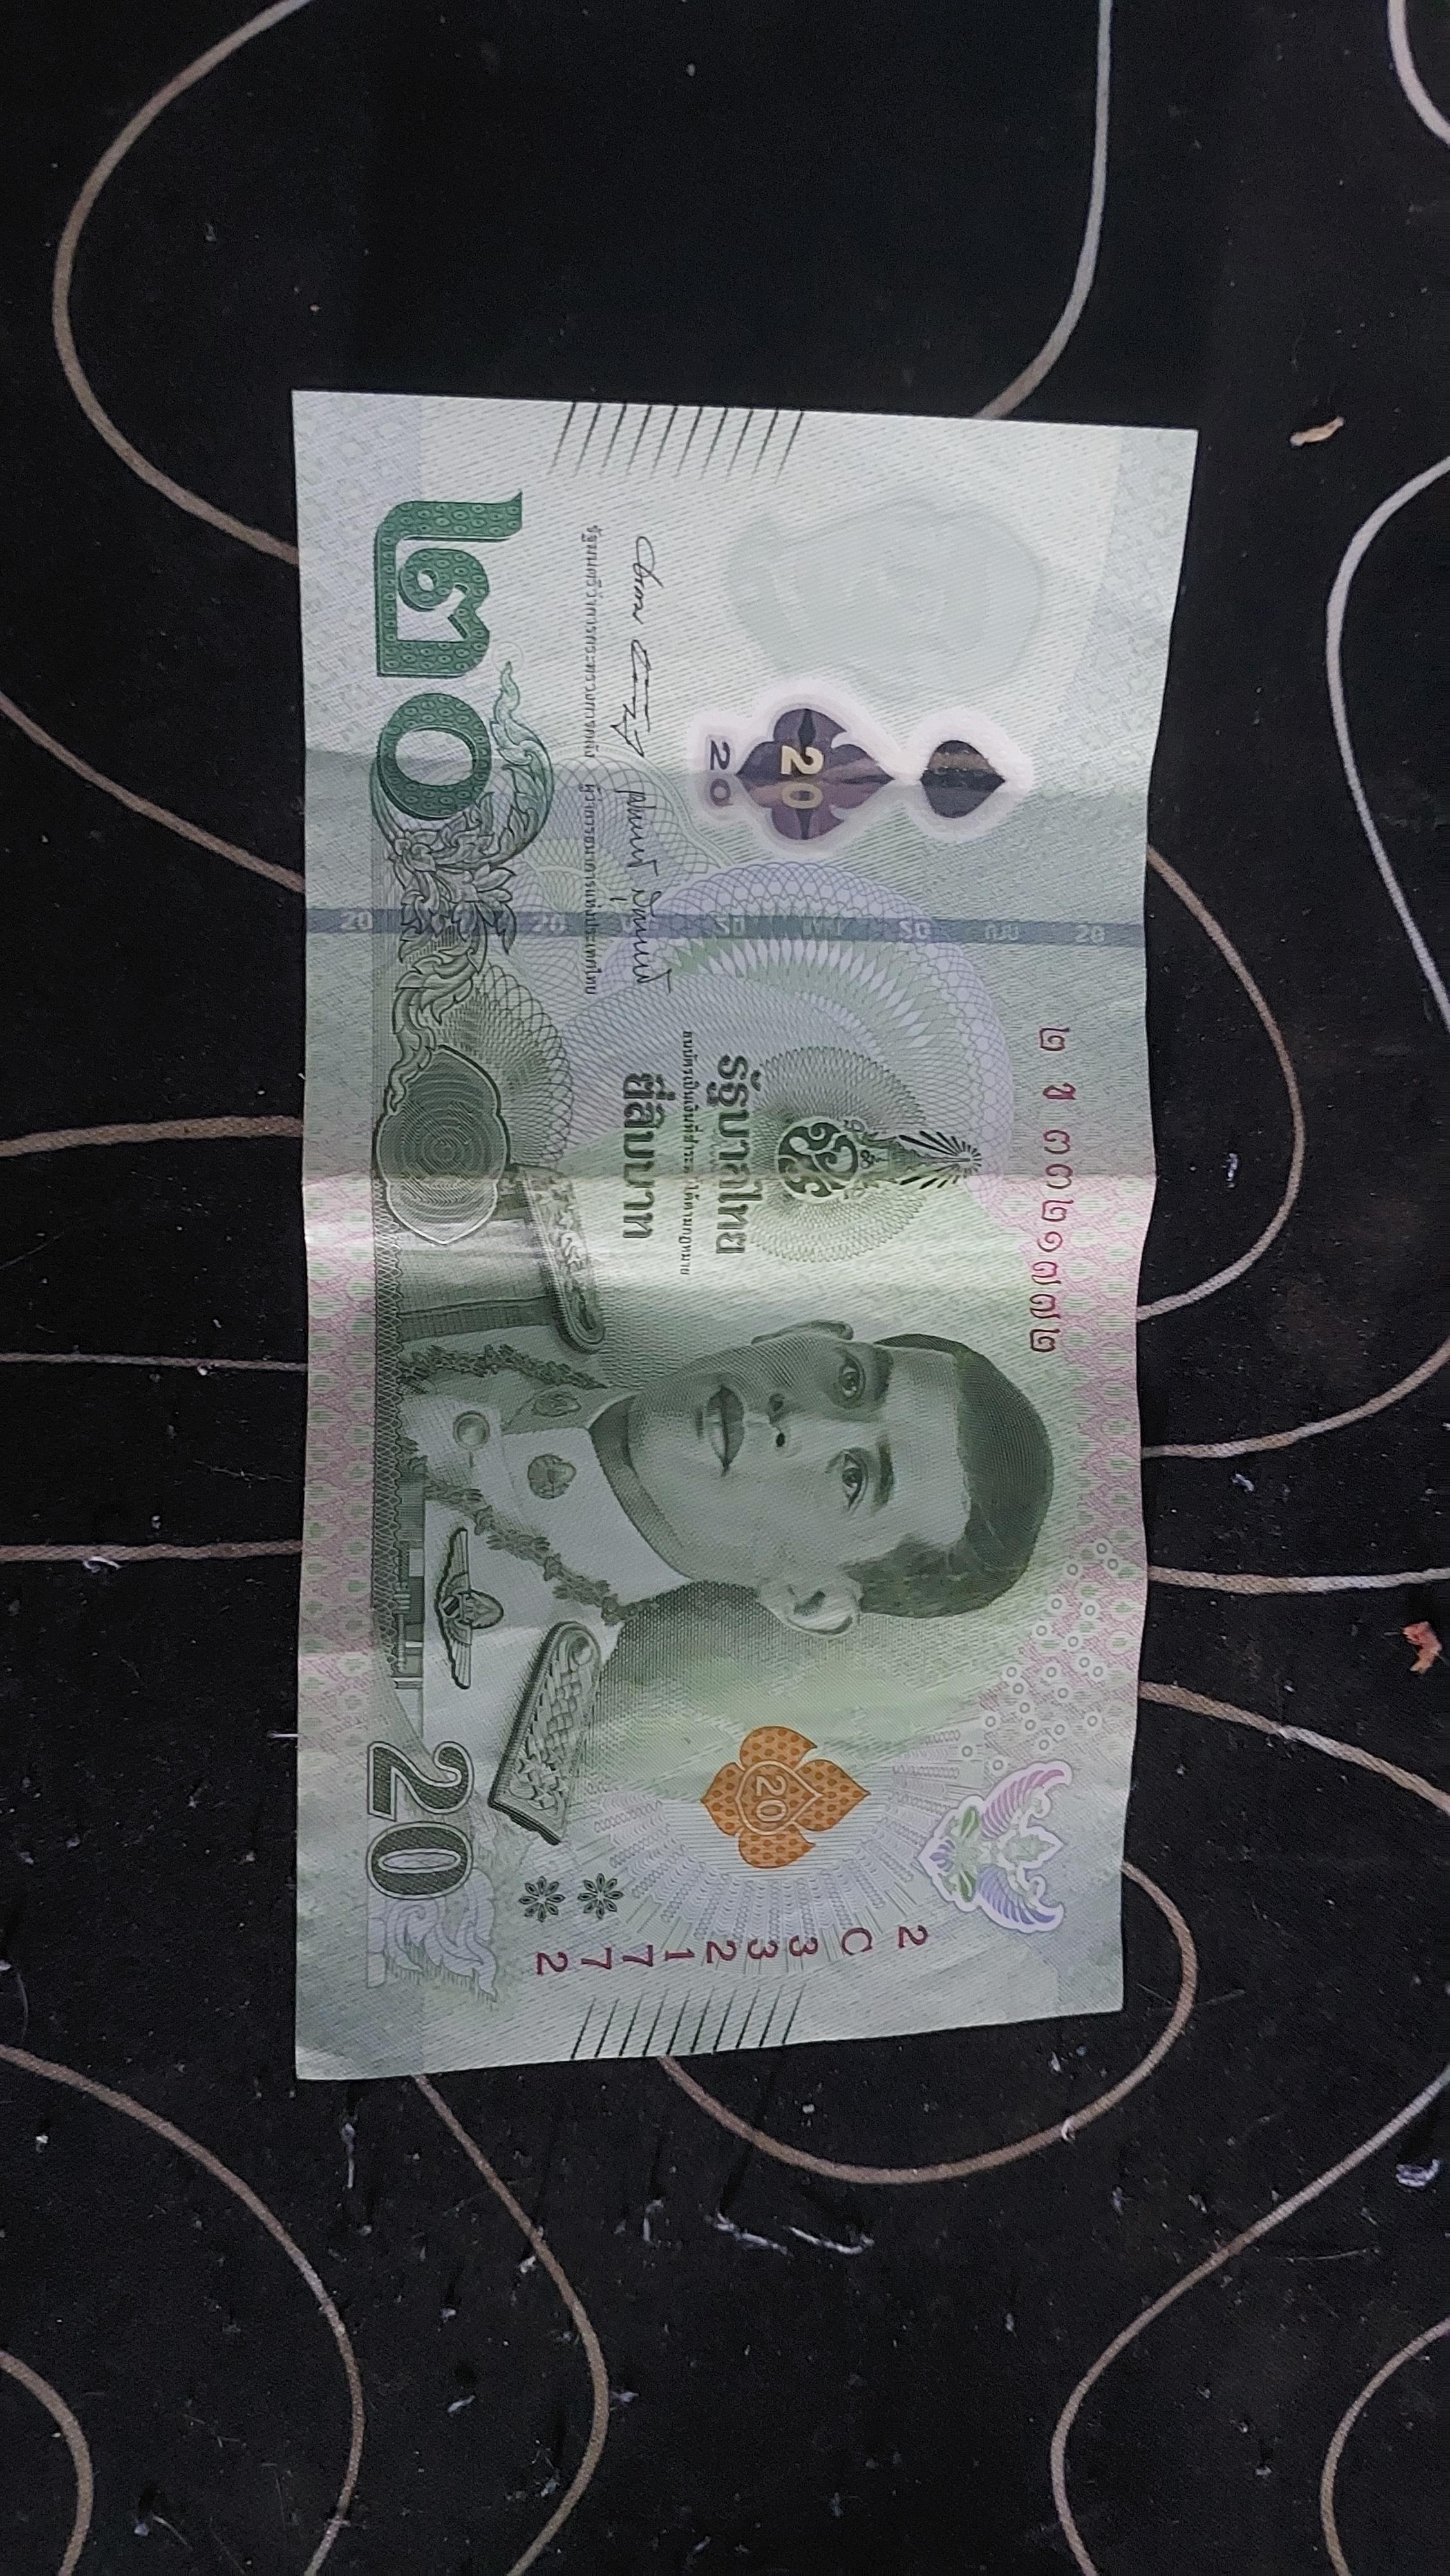20baht: (242, 306, 1185, 2135)
